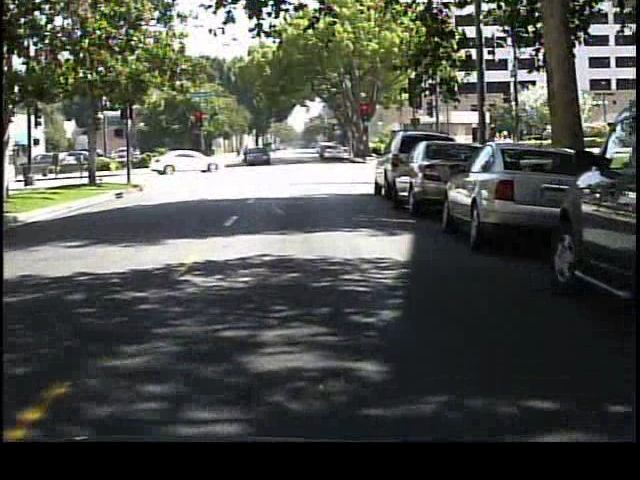person: (237, 143, 251, 170)
